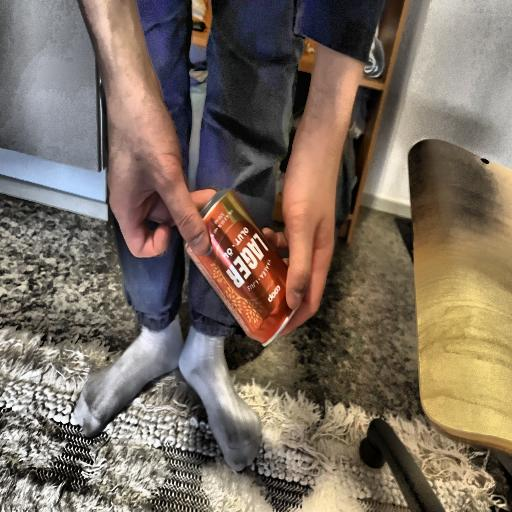coop_larger: (180, 182, 297, 337)
